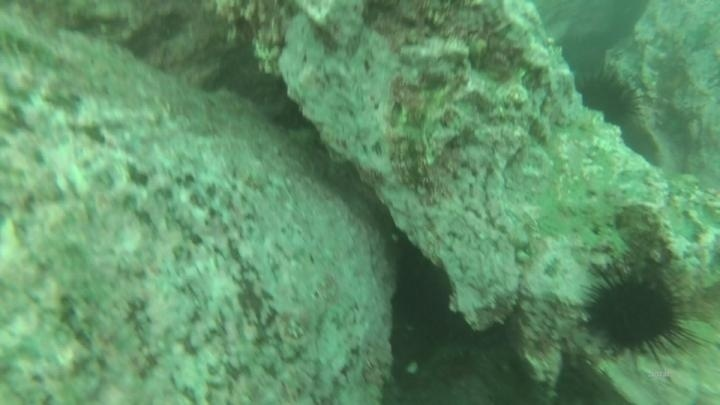echinus: (578, 262, 698, 365), (573, 68, 643, 128)
